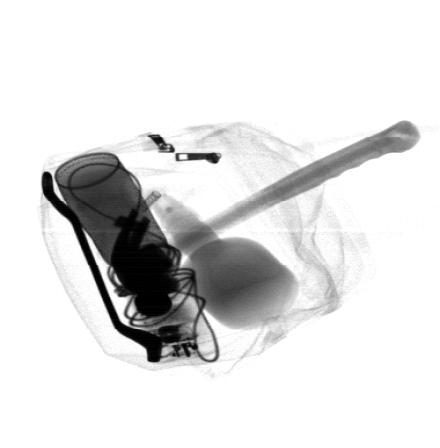Hammer: (110, 120, 425, 318)
Wrench: (42, 170, 163, 363)
